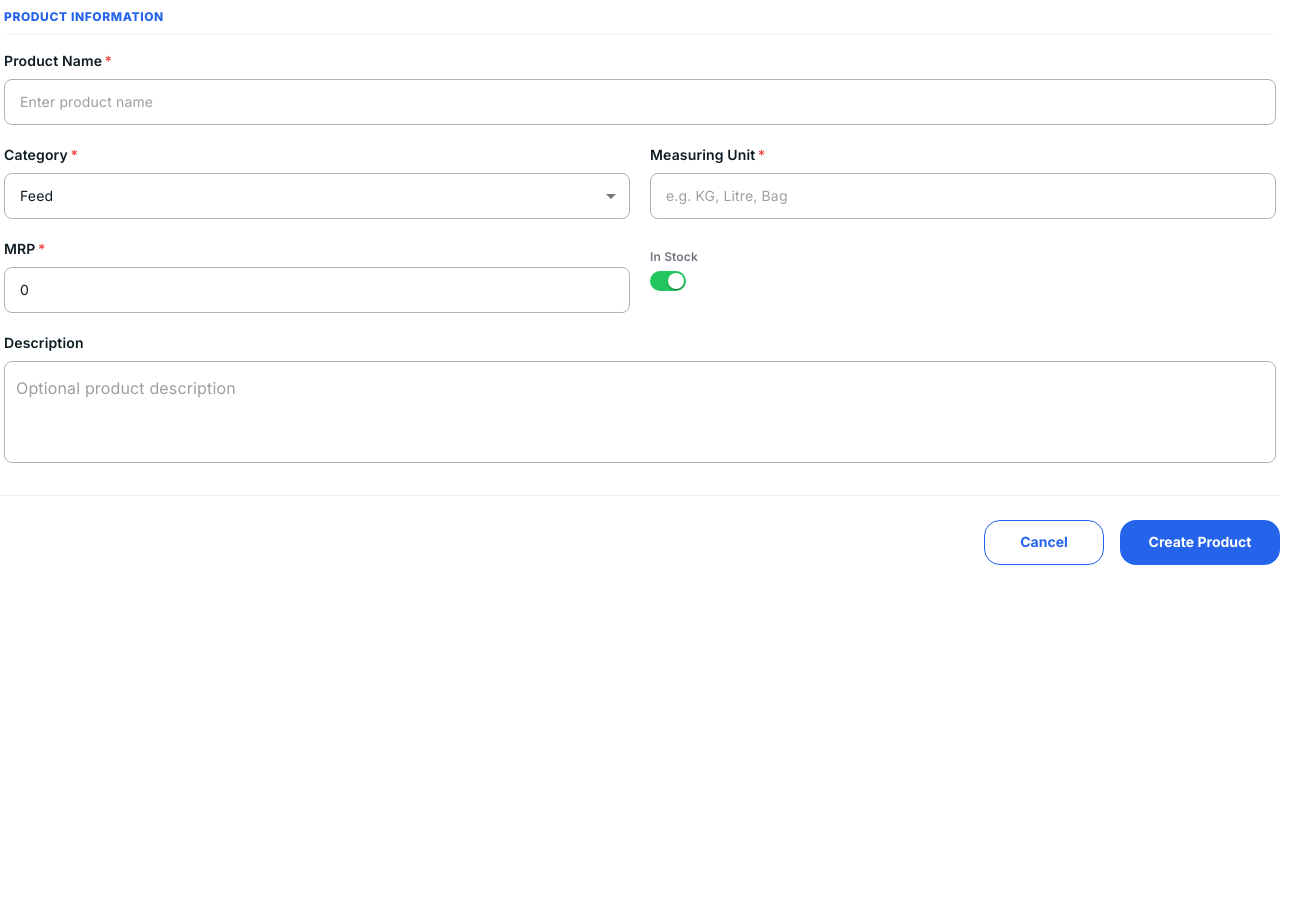
Test case: ProductForm › shows validation errors for required fields
Click the button "Create Product".
click(1200, 543)  # box [1120, 520, 1280, 565]
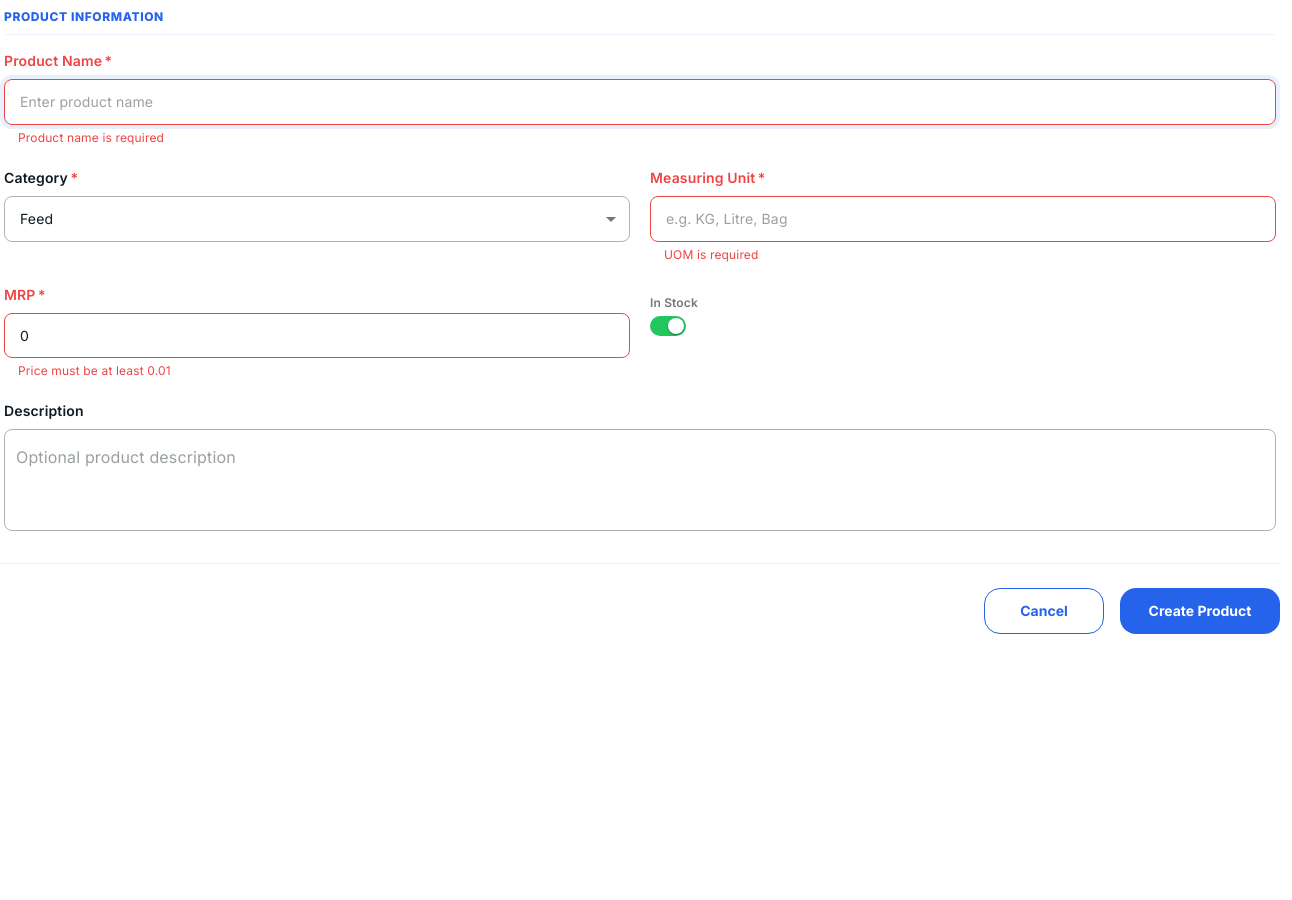
Result: the text "Product name is required" is shown at [18, 130, 164, 145]
Result: the text "UOM is required" is shown at [664, 247, 758, 262]
Result: the text "Price must be at least 0.01" is shown at [18, 363, 171, 378]
